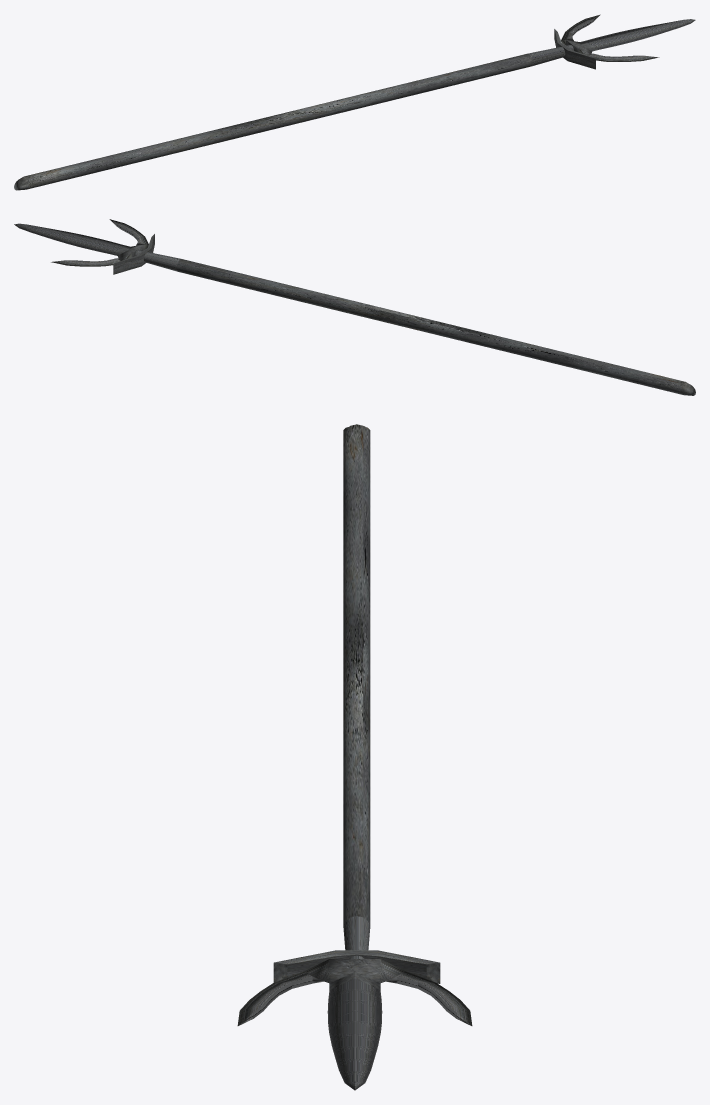
Rendered from spear.fbx.
The picture shows the model from 3 angles, top to bottom: view 1: azimuth 30°, elevation 25°; view 2: azimuth 150°, elevation 25°; view 3: azimuth 270°, elevation 25°; orthographic projection. The views are drawn at different scales.
Visible parts, largest first — view 1: NT_geo; view 2: NT_geo; view 3: NT_geo.
Boxes of the visible parts, x1=… form: NT_geo: x1=14, y1=14, x2=695, y2=190; NT_geo: x1=14, y1=219, x2=695, y2=395; NT_geo: x1=237, y1=424, x2=472, y2=1090.
Size of the model in its own units: 2149 by 36.61 by 321.
Materials: 1 (1 with a texture image).
